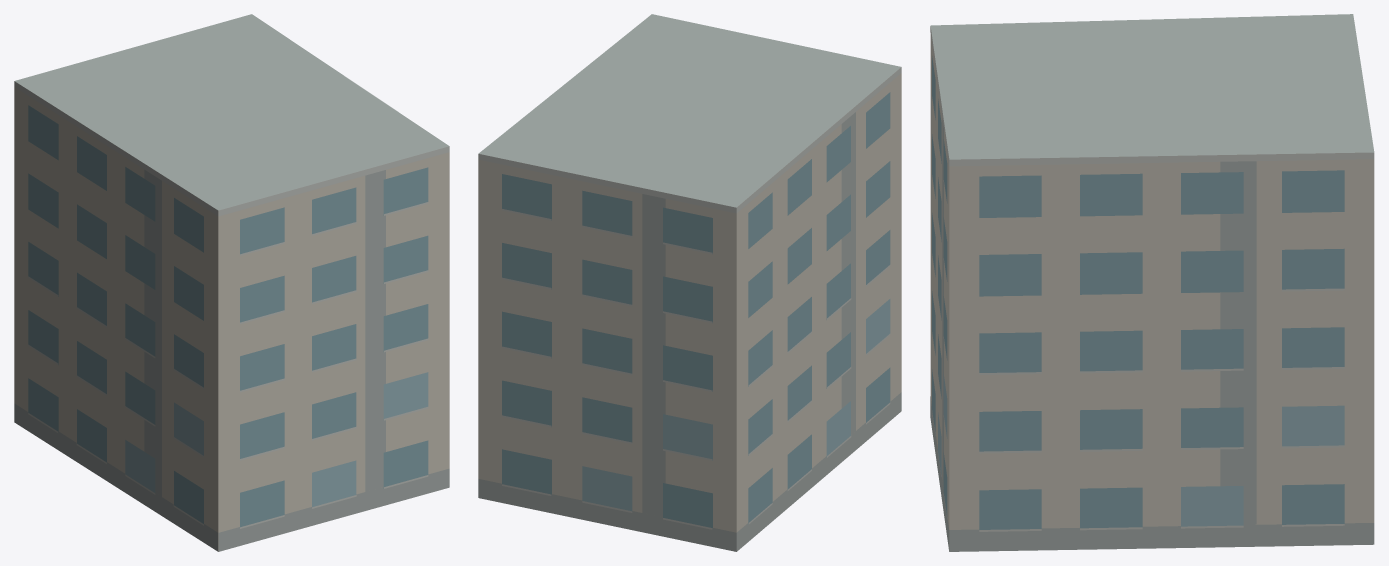
File: survey-upis-32883304.glb
The picture shows the model from 3 angles, left to right: view 1: azimuth 30°, elevation 25°; view 2: azimuth 150°, elevation 25°; view 3: azimuth 270°, elevation 25°; orthographic projection. The views are drawn at different scales.
Visible parts, largest first — view 1: survey-upis-32883304.tmp; view 2: survey-upis-32883304.tmp; view 3: survey-upis-32883304.tmp.
Boxes of the visible parts, x1=… form: survey-upis-32883304.tmp: x1=14, y1=14, x2=449, y2=551; survey-upis-32883304.tmp: x1=478, y1=14, x2=901, y2=551; survey-upis-32883304.tmp: x1=930, y1=14, x2=1374, y2=551.
Size of the model in its own units: 11.36 by 14.25 by 14.63.
